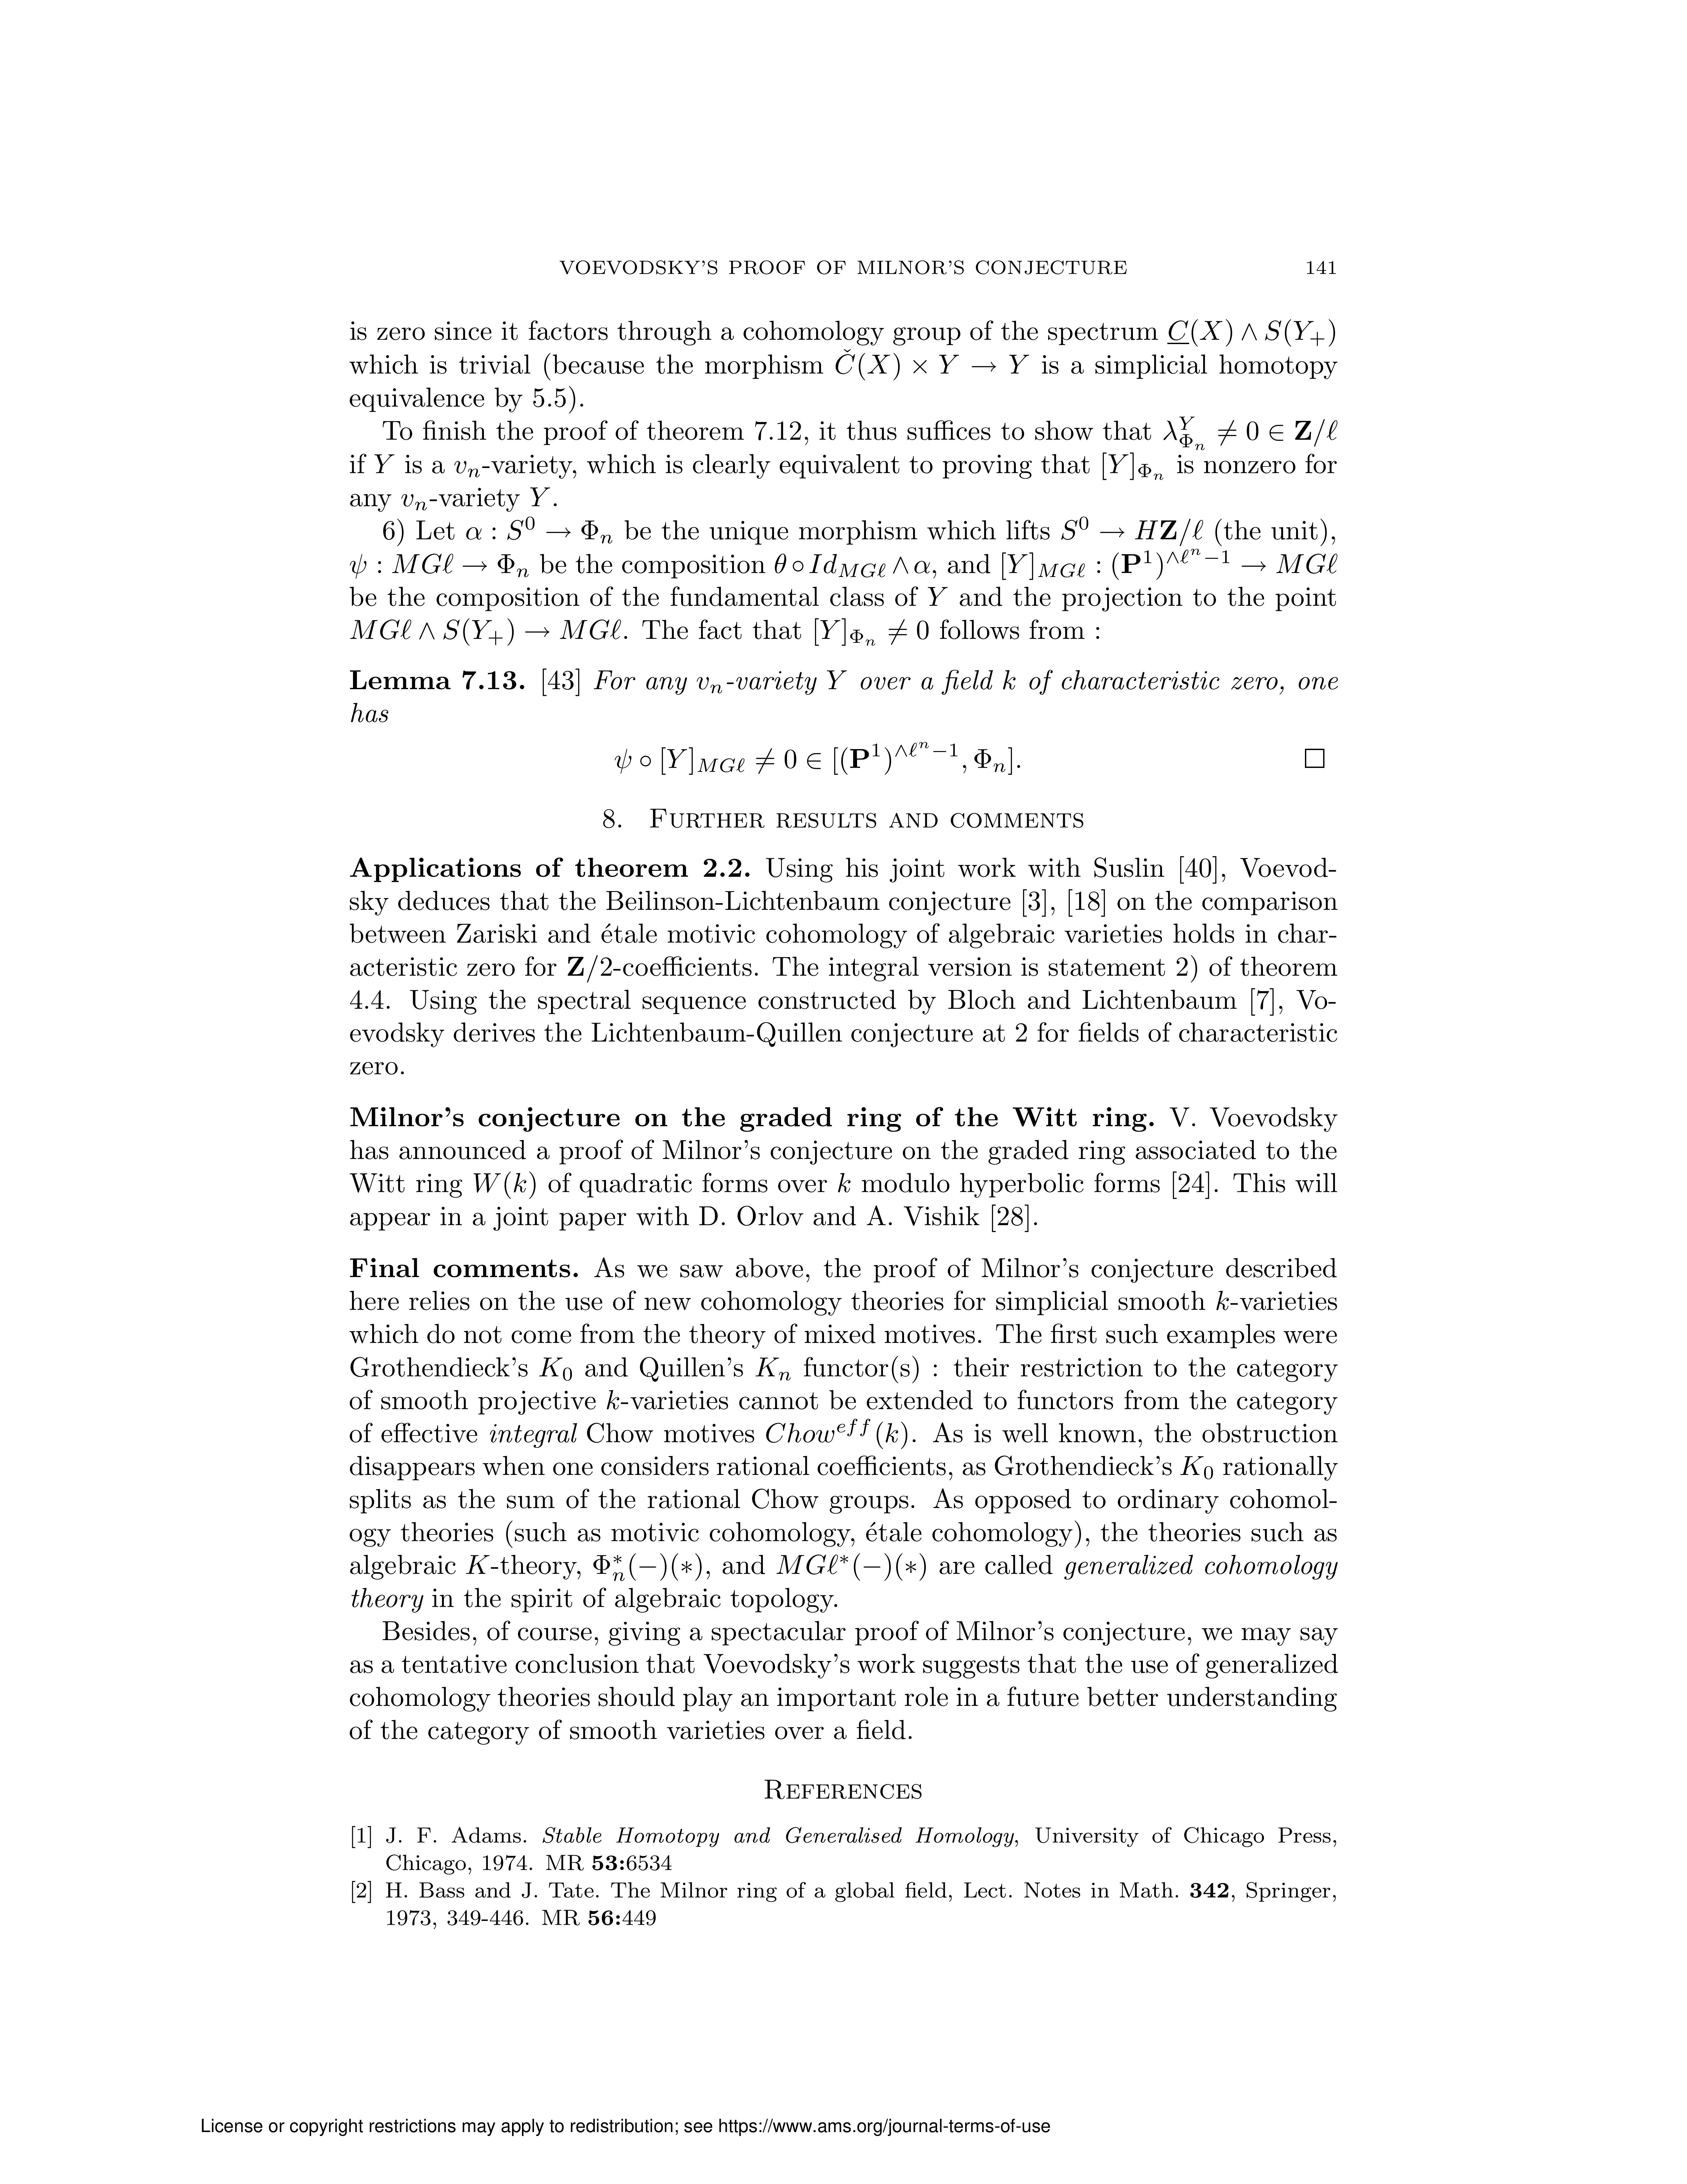expr: (246, 1461, 1108, 1549), (237, 1193, 1099, 1280), (452, 1571, 872, 1656), (512, 890, 851, 989), (872, 1344, 1205, 1438), (914, 454, 1201, 532), (447, 782, 665, 865), (475, 994, 741, 1062), (595, 454, 760, 537), (418, 605, 842, 633), (576, 1686, 870, 1716), (245, 271, 498, 301), (902, 273, 1095, 303), (195, 307, 388, 337), (755, 1103, 955, 1131), (149, 746, 266, 773), (1081, 714, 1200, 739), (400, 417, 505, 443), (606, 273, 702, 301), (618, 870, 707, 901), (645, 1370, 737, 1395), (365, 1370, 450, 1397), (470, 310, 537, 335), (957, 711, 1014, 739), (838, 677, 897, 704), (225, 546, 282, 573), (882, 753, 953, 775), (1065, 748, 1113, 775), (828, 713, 874, 739), (431, 381, 473, 408), (558, 548, 595, 573), (276, 1018, 305, 1048), (315, 924, 342, 954), (1012, 1071, 1042, 1092), (587, 1106, 617, 1126), (468, 475, 493, 496), (319, 1071, 344, 1092), (220, 1106, 243, 1126), (587, 417, 608, 436), (548, 477, 569, 496), (1109, 1073, 1131, 1092), (145, 1406, 165, 1425), (1049, 1312, 1067, 1331), (865, 390, 877, 409), (151, 424, 163, 443), (1070, 879, 1083, 899), (149, 310, 158, 332), (489, 877, 500, 892)
